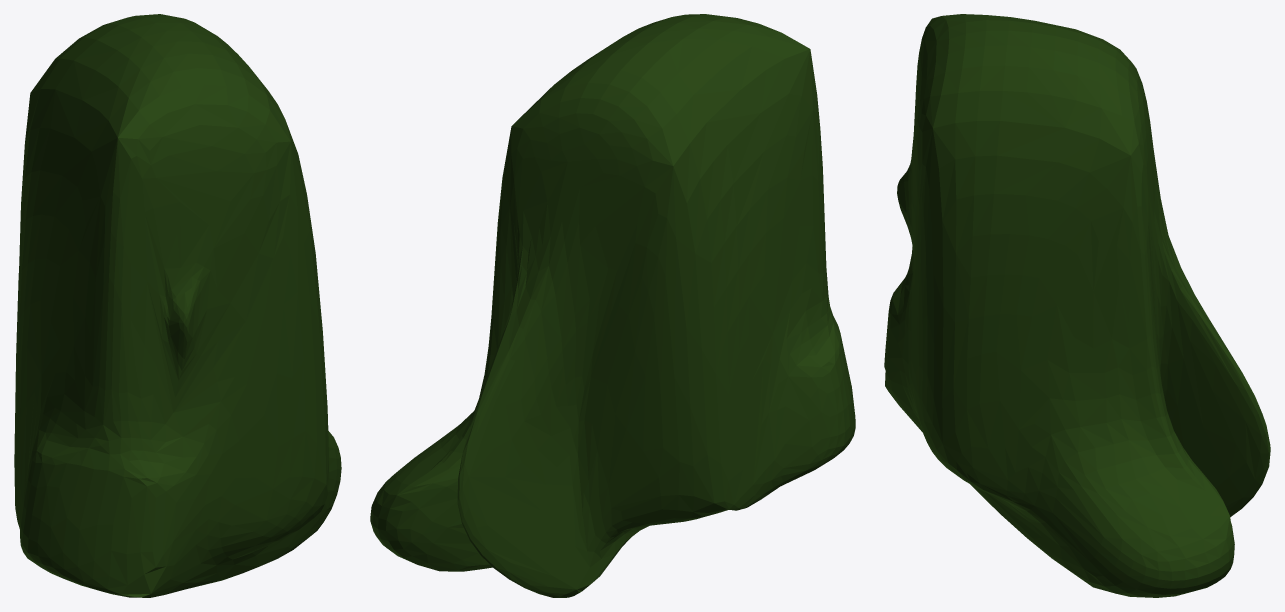
The picture shows the model from 3 angles, left to right: view 1: azimuth 30°, elevation 25°; view 2: azimuth 150°, elevation 25°; view 3: azimuth 270°, elevation 25°; orthographic projection. The views are drawn at different scales.
Parts seen in each view (by area): view 1: 618_Cube.2485; view 2: 618_Cube.2485; view 3: 618_Cube.2485.
Part boxes in pixels (x1,y1,x2,y2): 618_Cube.2485: [14, 14, 341, 597]; 618_Cube.2485: [370, 14, 855, 597]; 618_Cube.2485: [884, 14, 1270, 597].
Size of the model in its own units: 9.83 by 13.37 by 9.46.
